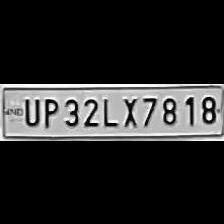1: (180, 92, 198, 125)
2: (80, 94, 100, 128)
3: (60, 94, 78, 126)
7: (138, 93, 156, 127)
8: (196, 92, 218, 124), (158, 93, 178, 125)
L: (99, 93, 117, 126)
P: (40, 94, 58, 128)
U: (20, 95, 40, 125)
X: (119, 94, 139, 128)
